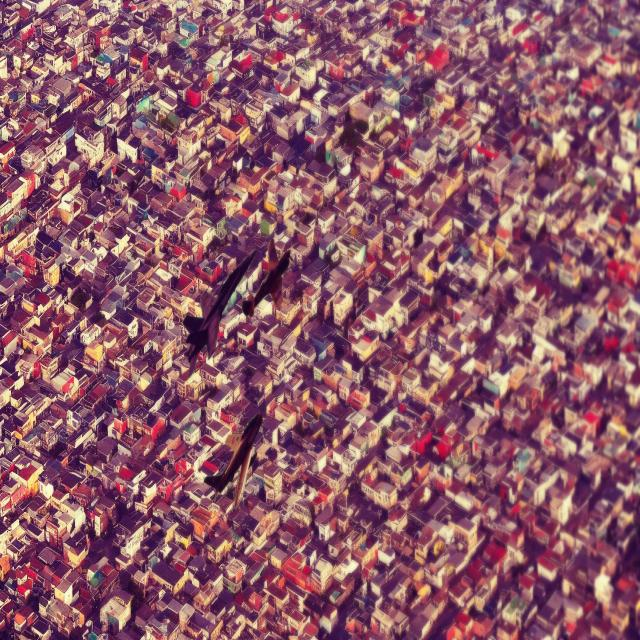airplane: (182, 247, 256, 362), (203, 410, 265, 504), (242, 239, 292, 317)
